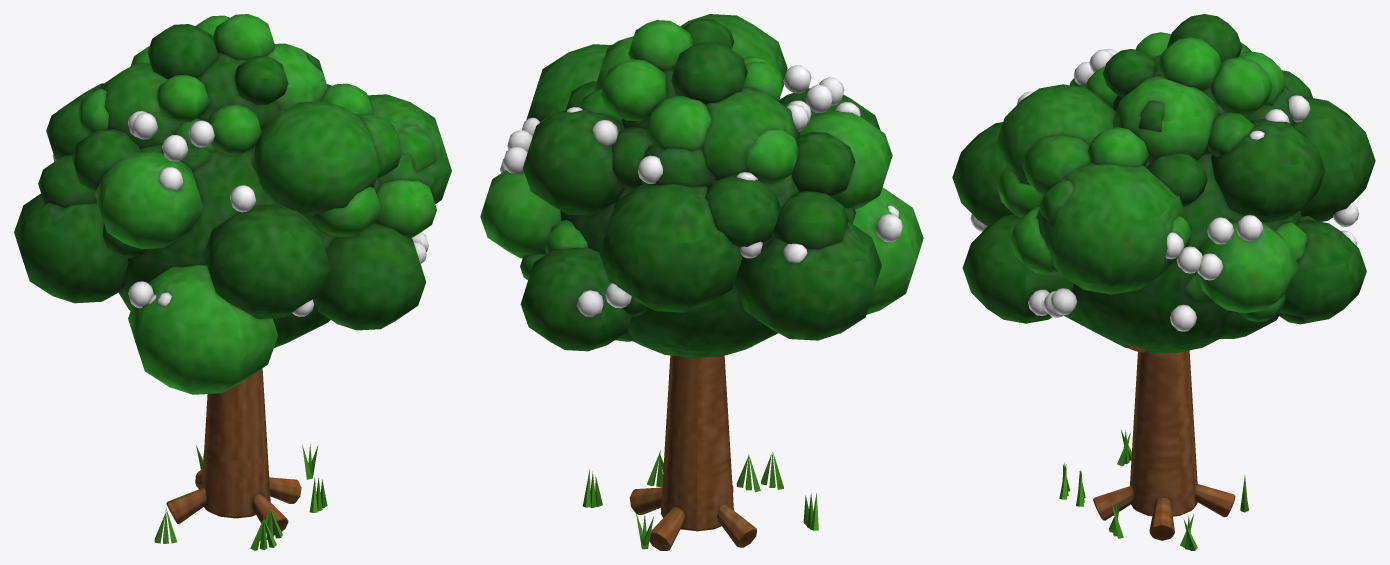
Rendered from yuzu_tree.glb.
The picture shows the model from 3 angles, left to right: view 1: azimuth 30°, elevation 25°; view 2: azimuth 150°, elevation 25°; view 3: azimuth 270°, elevation 25°; orthographic projection. The views are drawn at different scales.
Parts seen in each view (by area): view 1: crown, yuzu_tree; view 2: crown, yuzu_tree; view 3: crown, yuzu_tree.
Part boxes in pixels (x1=…): crown: x1=14, y1=14, x2=451, y2=394; yuzu_tree: x1=154, y1=368, x2=327, y2=550; crown: x1=480, y1=14, x2=923, y2=358; yuzu_tree: x1=582, y1=346, x2=818, y2=550; crown: x1=952, y1=14, x2=1375, y2=352; yuzu_tree: x1=1059, y1=345, x2=1248, y2=550.
Bounding box in the file's own units: 1.05 × 1.3 × 1.03.
1 material, 1 textured.
